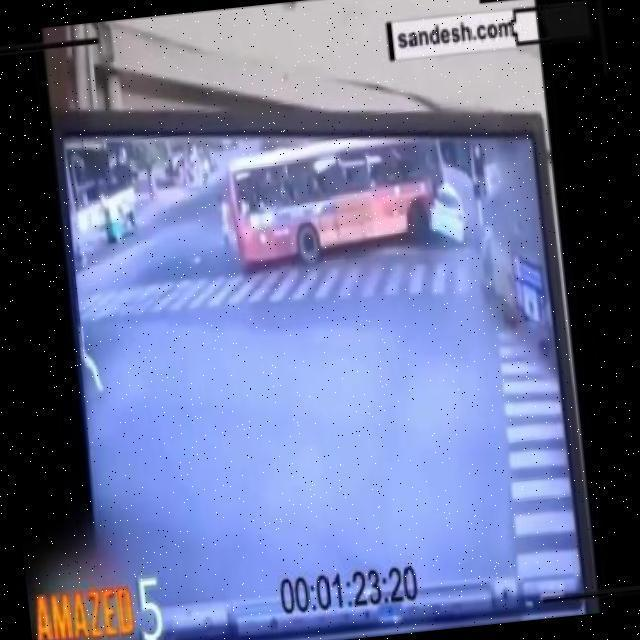accident: (219, 121, 476, 273)
